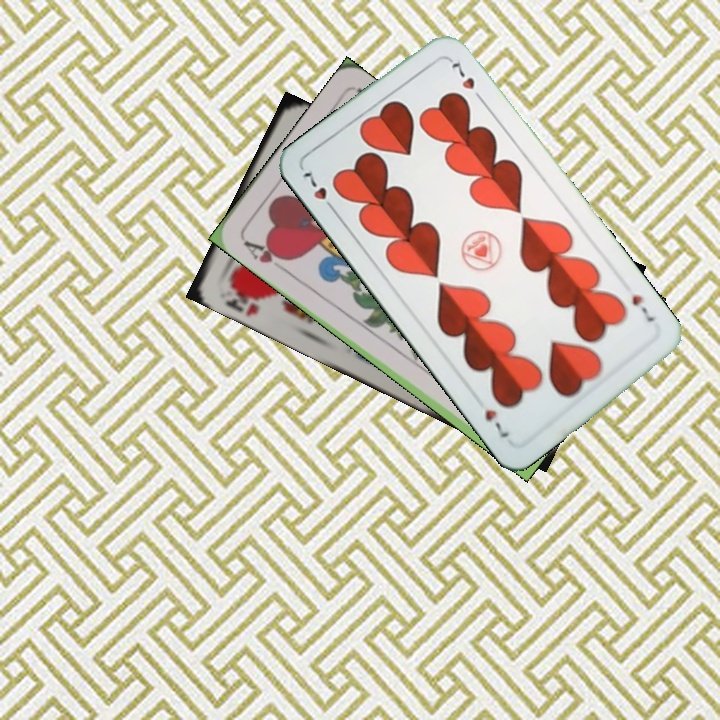H7: (298, 166, 339, 216), (627, 289, 659, 325)
HA: (239, 236, 293, 275)
HK: (221, 279, 267, 319)
